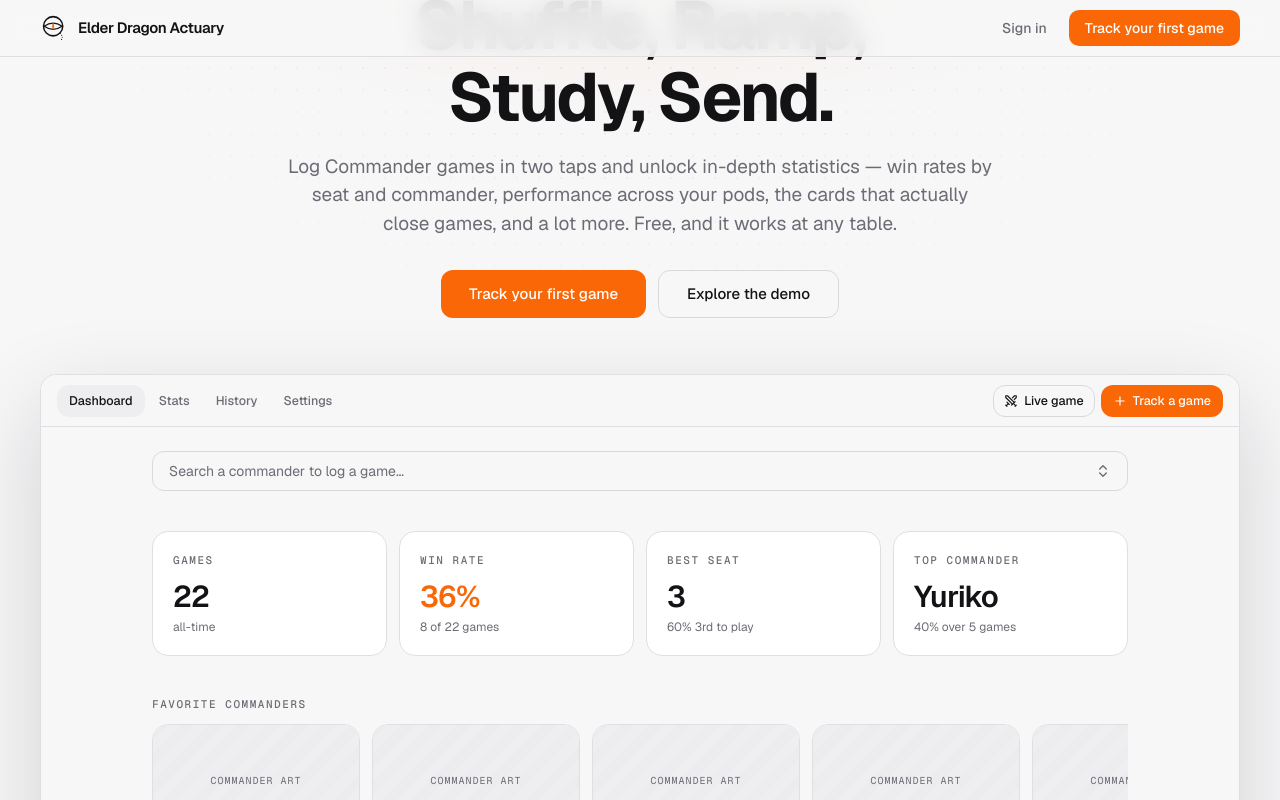
LoggedOutHomePage simulation › switches to the real Stats page
The width and height of the screenshot is (1280, 800).
(page scrolled)
Click the button "Stats" at (174, 401), box x1=147 y1=385 x2=202 y2=417
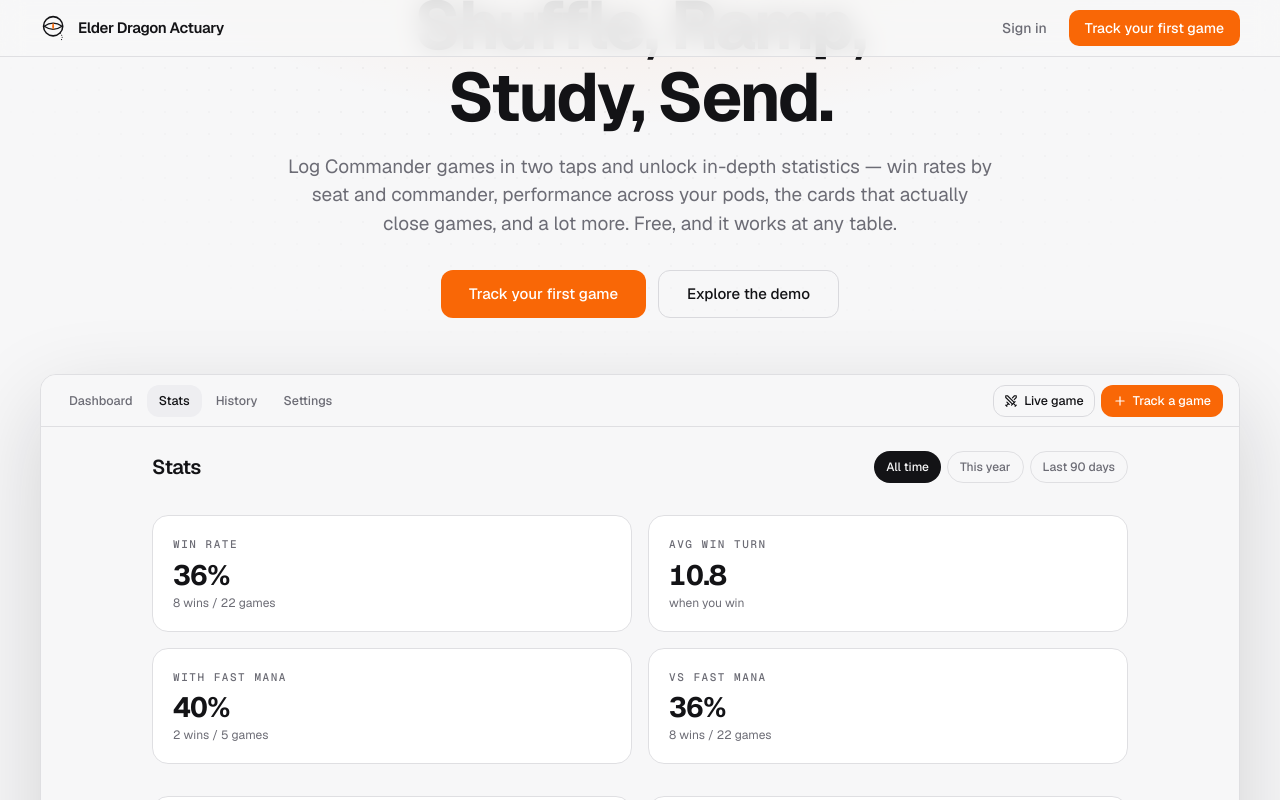
expect the text "Avg win turn" is shown: met, box x1=669 y1=537 x2=767 y2=551
